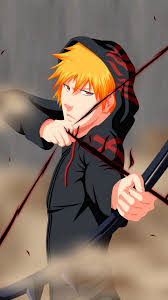Ichigo: (50, 39, 131, 137)
